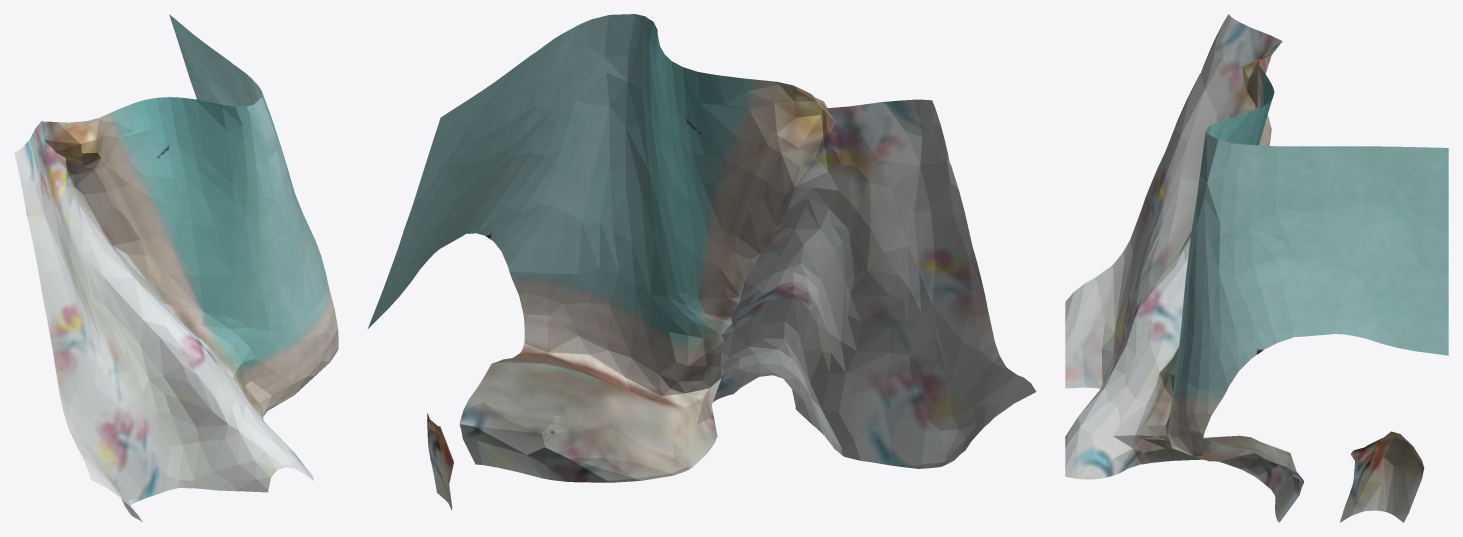
3 views of the same model, side by side, from view 1: azimuth 30°, elevation 25°; view 2: azimuth 150°, elevation 25°; view 3: azimuth 270°, elevation 25° (orthographic). The views are drawn at different scales.
Size of the model in its own units: 85.74 by 85.74 by 85.74.
1 material, 1 textured.
